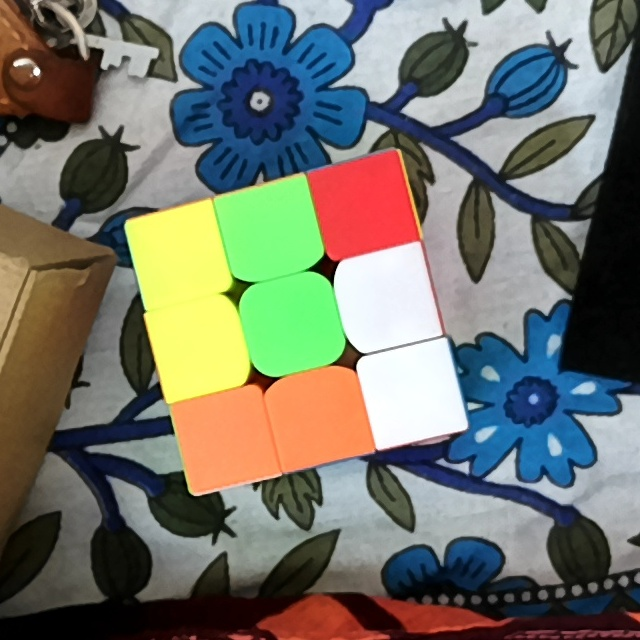tile: (256, 287, 330, 360), (352, 262, 423, 336), (189, 402, 263, 473), (234, 194, 306, 266), (284, 380, 356, 451), (377, 356, 448, 427), (332, 169, 400, 242), (166, 311, 233, 383), (145, 221, 212, 291)
